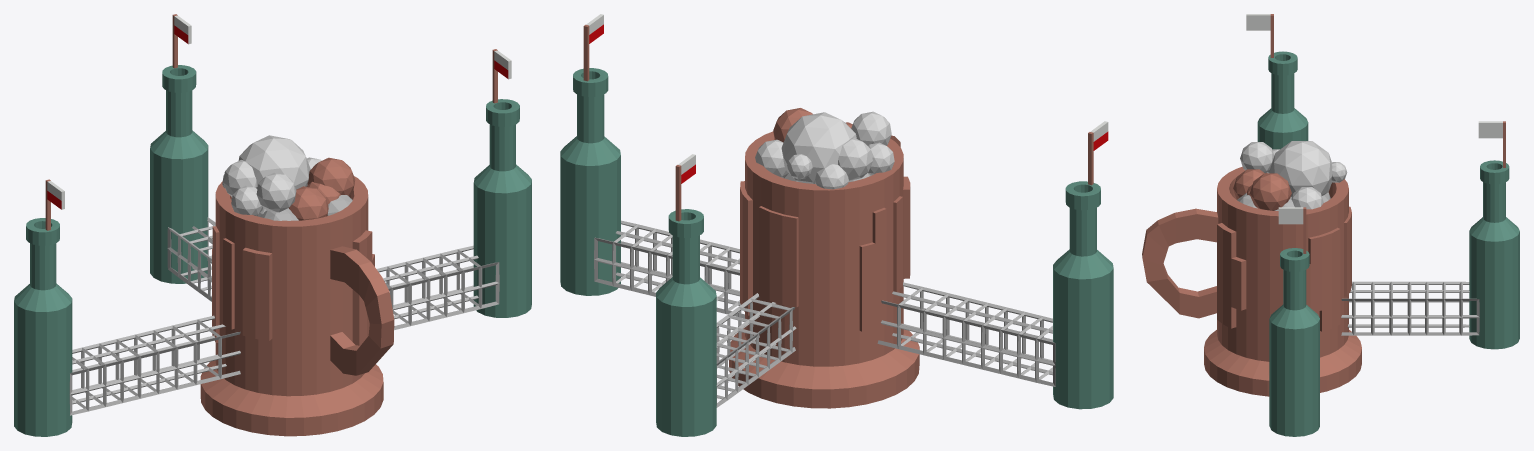
The model's file is Beer.fbx.
The picture shows the model from 3 angles, left to right: view 1: azimuth 30°, elevation 25°; view 2: azimuth 150°, elevation 25°; view 3: azimuth 270°, elevation 25°; orthographic projection. The views are drawn at different scales.
Parts seen in each view (by area): view 1: Beership; view 2: Beership; view 3: Beership.
Part boxes in pixels (x1,y1,x2,y2): Beership: [14, 14, 531, 436]; Beership: [560, 14, 1113, 436]; Beership: [1142, 14, 1519, 436].
Bounding box in the file's own units: 20.36 × 10.74 × 14.93.
